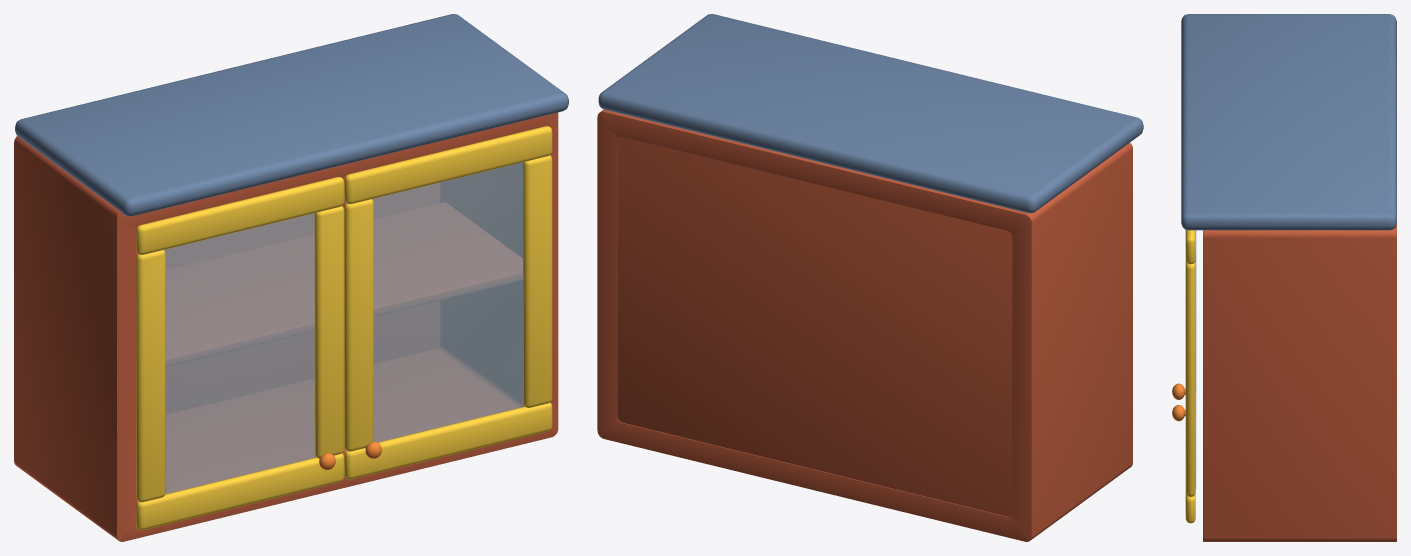
The model's file is armario_parede_vidro_classica.glb.
3 renders of one model, left to right at view 1: azimuth 30°, elevation 25°; view 2: azimuth 150°, elevation 25°; view 3: azimuth 270°, elevation 25°, orthographic. The views are drawn at different scales.
Visible parts, largest first — view 1: armario_parede_vidro_classica, porta_2, porta_1; view 2: armario_parede_vidro_classica; view 3: armario_parede_vidro_classica, porta_2.
Part boxes in pixels (x1=…): armario_parede_vidro_classica: x1=14, y1=14, x2=568, y2=541; porta_2: x1=344, y1=126, x2=552, y2=479; porta_1: x1=136, y1=177, x2=344, y2=530; armario_parede_vidro_classica: x1=597, y1=14, x2=1143, y2=541; armario_parede_vidro_classica: x1=1181, y1=14, x2=1396, y2=541; porta_2: x1=1172, y1=230, x2=1196, y2=523.
Bounding box in the file's own units: 0.798 × 0.6 × 0.3711.
2 materials, 1 textured.
